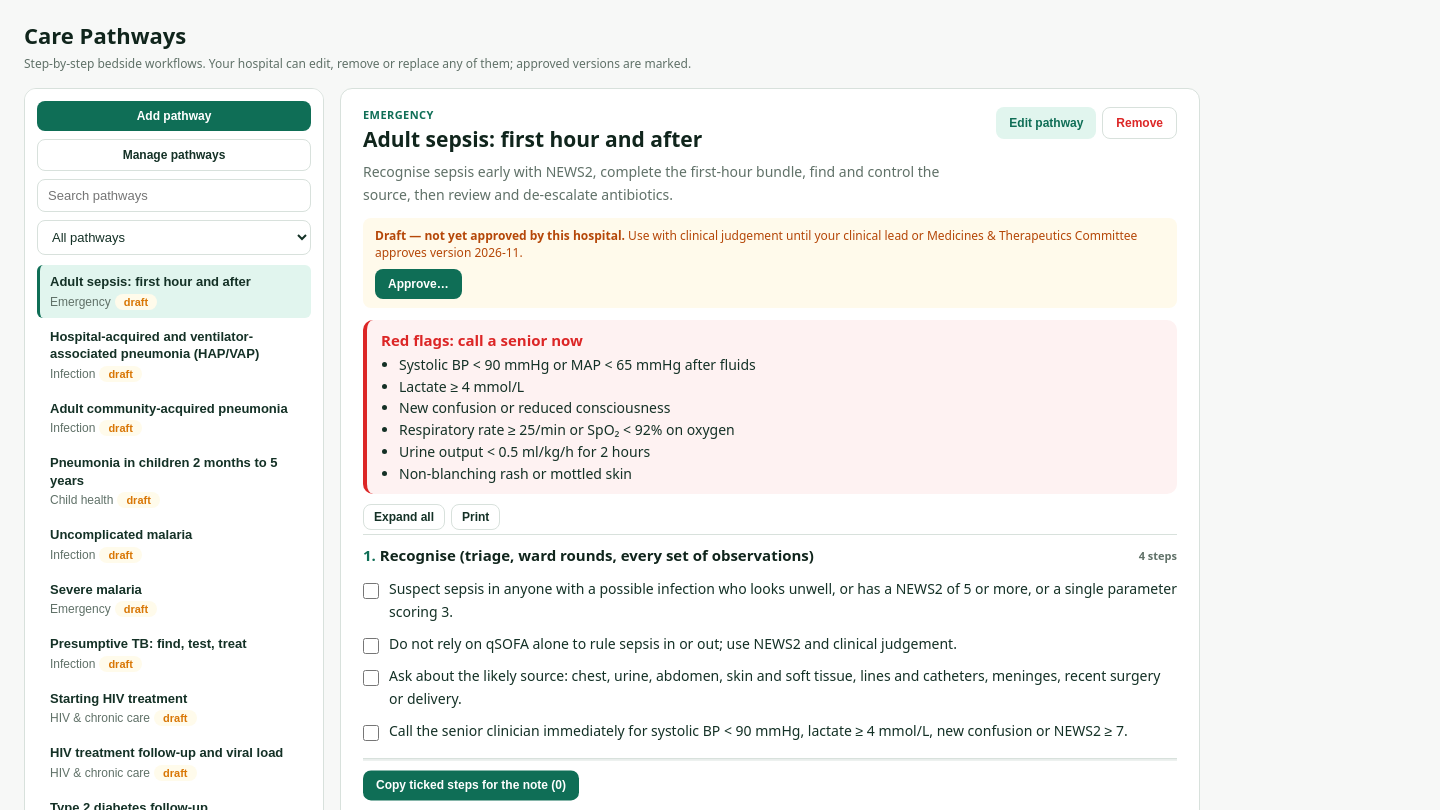
care pathways: hospital control › removes a built-in pathway for this hospital and restores it
The image size is (1440, 810).
Check: the button "Edit pathway" is shown, box [996,107,1096,139]
Click the button "Remove" at (1140, 123), box [1102,107,1177,139]
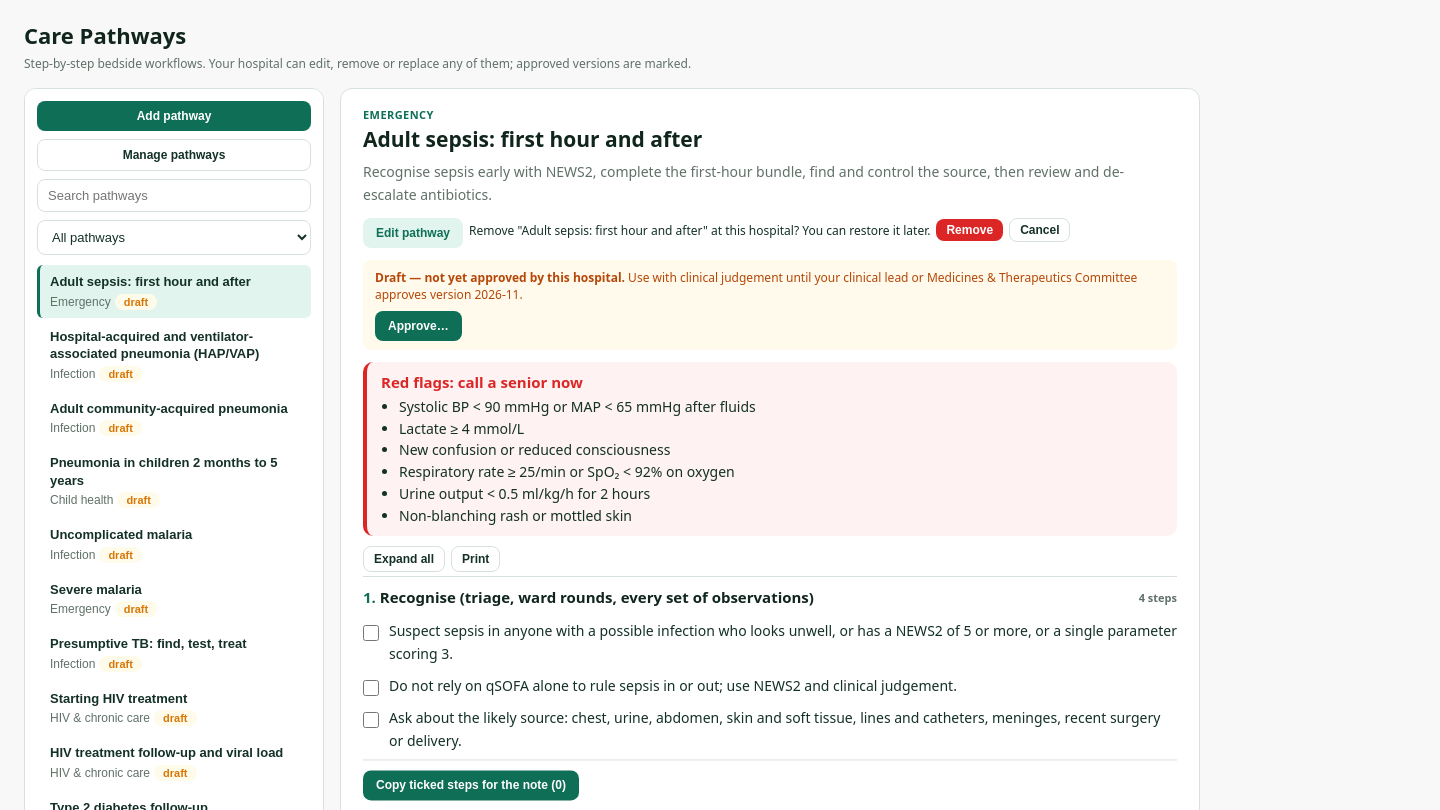
Click the button "Remove" at (970, 230), box [936,219,1003,241]
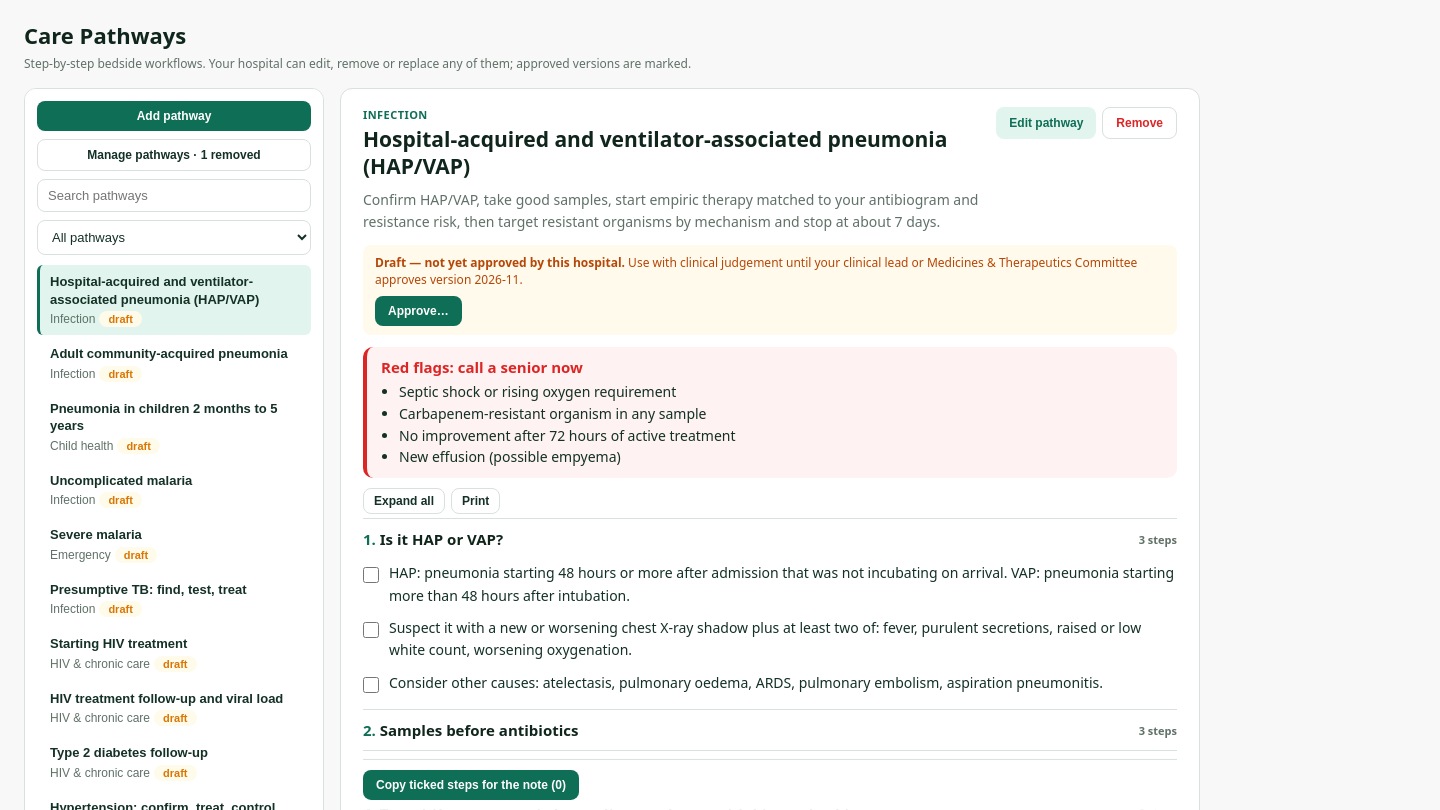
Check: the button "Adult sepsis: first hour and after" is gone
Click the button "Manage pathways · 1 removed" at (174, 155), box [37,139,311,171]
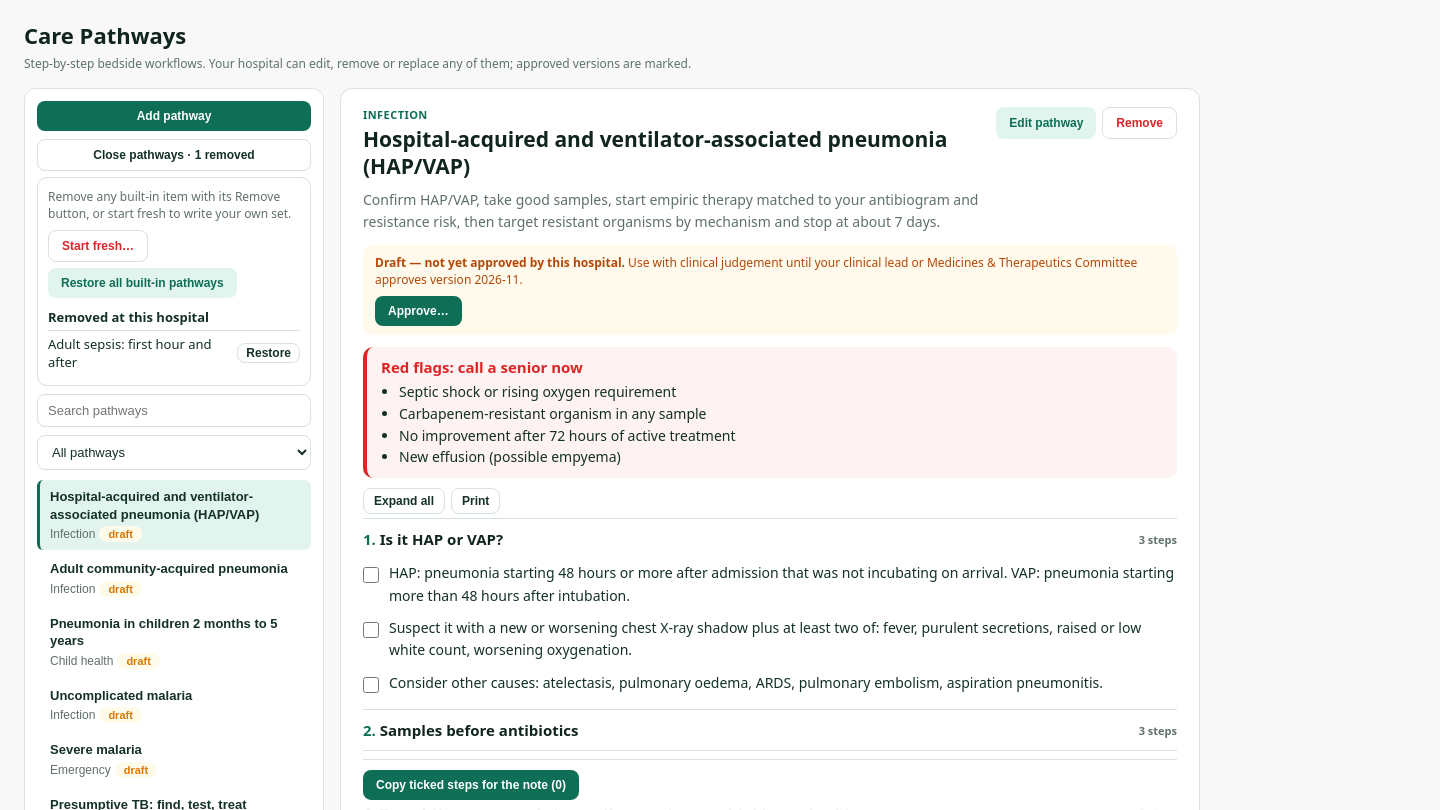
Click the button "Restore" at (269, 353), box [237,343,300,363]
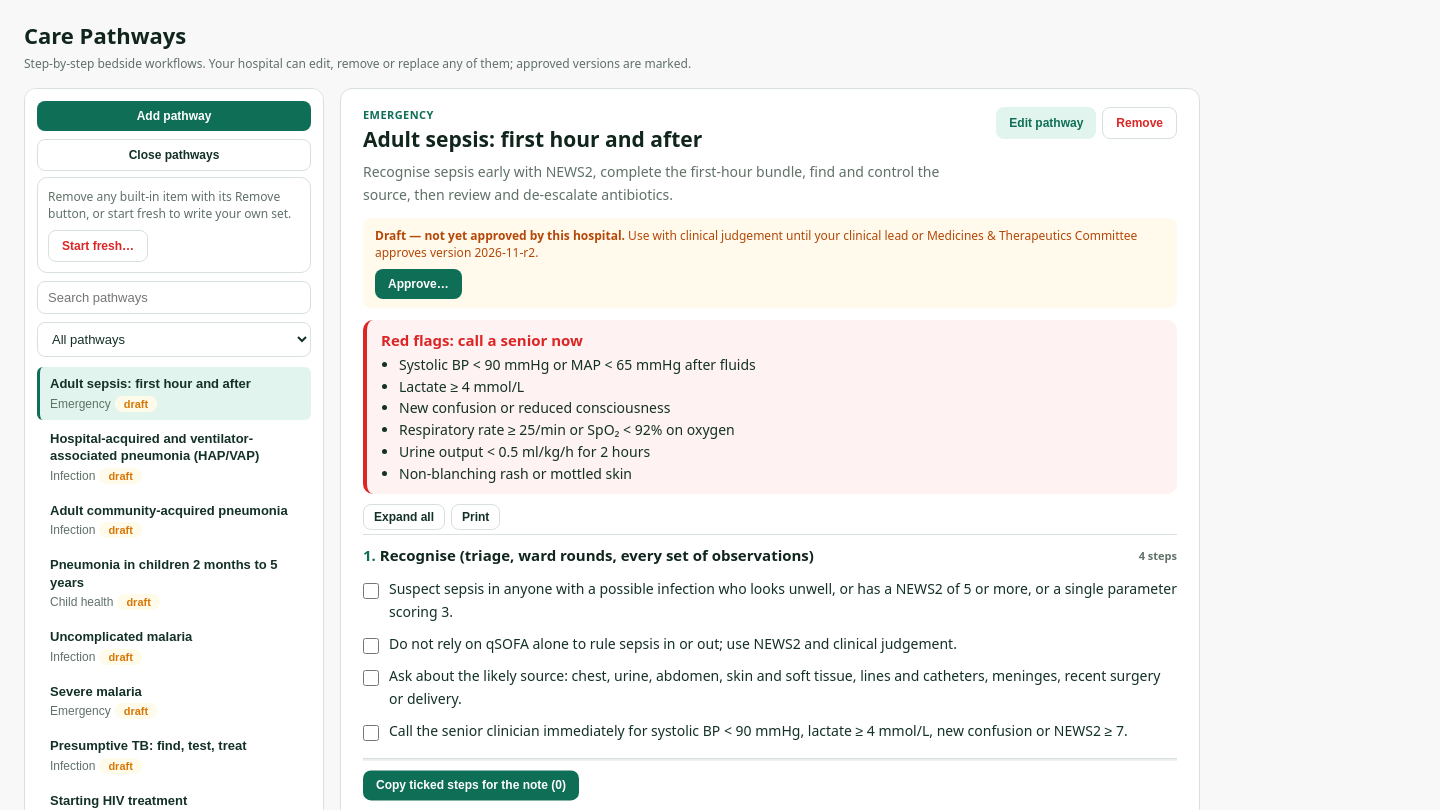
Check: the text "Adult sepsis: first hour and after" is shown, box [50,376,251,391]
